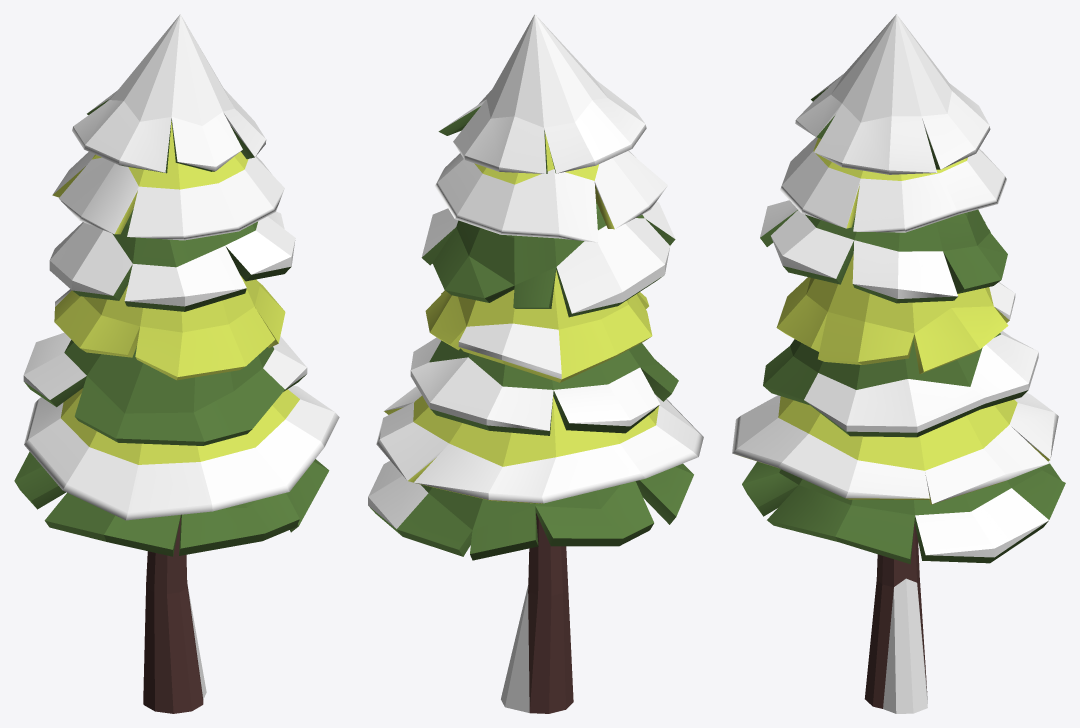
File: Conifer Tree_5 Snow.fbx
The picture shows the model from 3 angles, left to right: view 1: azimuth 30°, elevation 25°; view 2: azimuth 150°, elevation 25°; view 3: azimuth 270°, elevation 25°; orthographic projection.
Parts seen in each view (by area): view 1: Conifer Tree_5 Snow; view 2: Conifer Tree_5 Snow; view 3: Conifer Tree_5 Snow.
Boxes of the visible parts, box(x1,y1,x2,y2) form: Conifer Tree_5 Snow: box(14, 14, 339, 713); Conifer Tree_5 Snow: box(368, 14, 703, 713); Conifer Tree_5 Snow: box(732, 14, 1065, 713).
Bounding box in the file's own units: 2.39 × 5.65 × 2.49.
